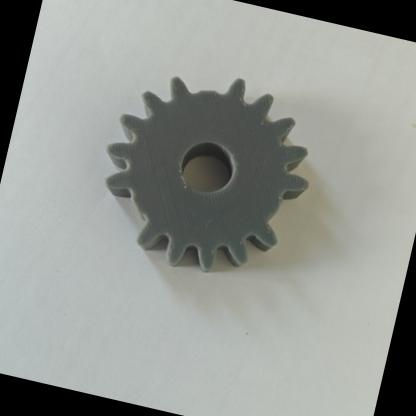defect: (230, 172, 326, 260), (88, 165, 178, 247), (168, 56, 256, 128)
gear: (67, 37, 363, 322)
